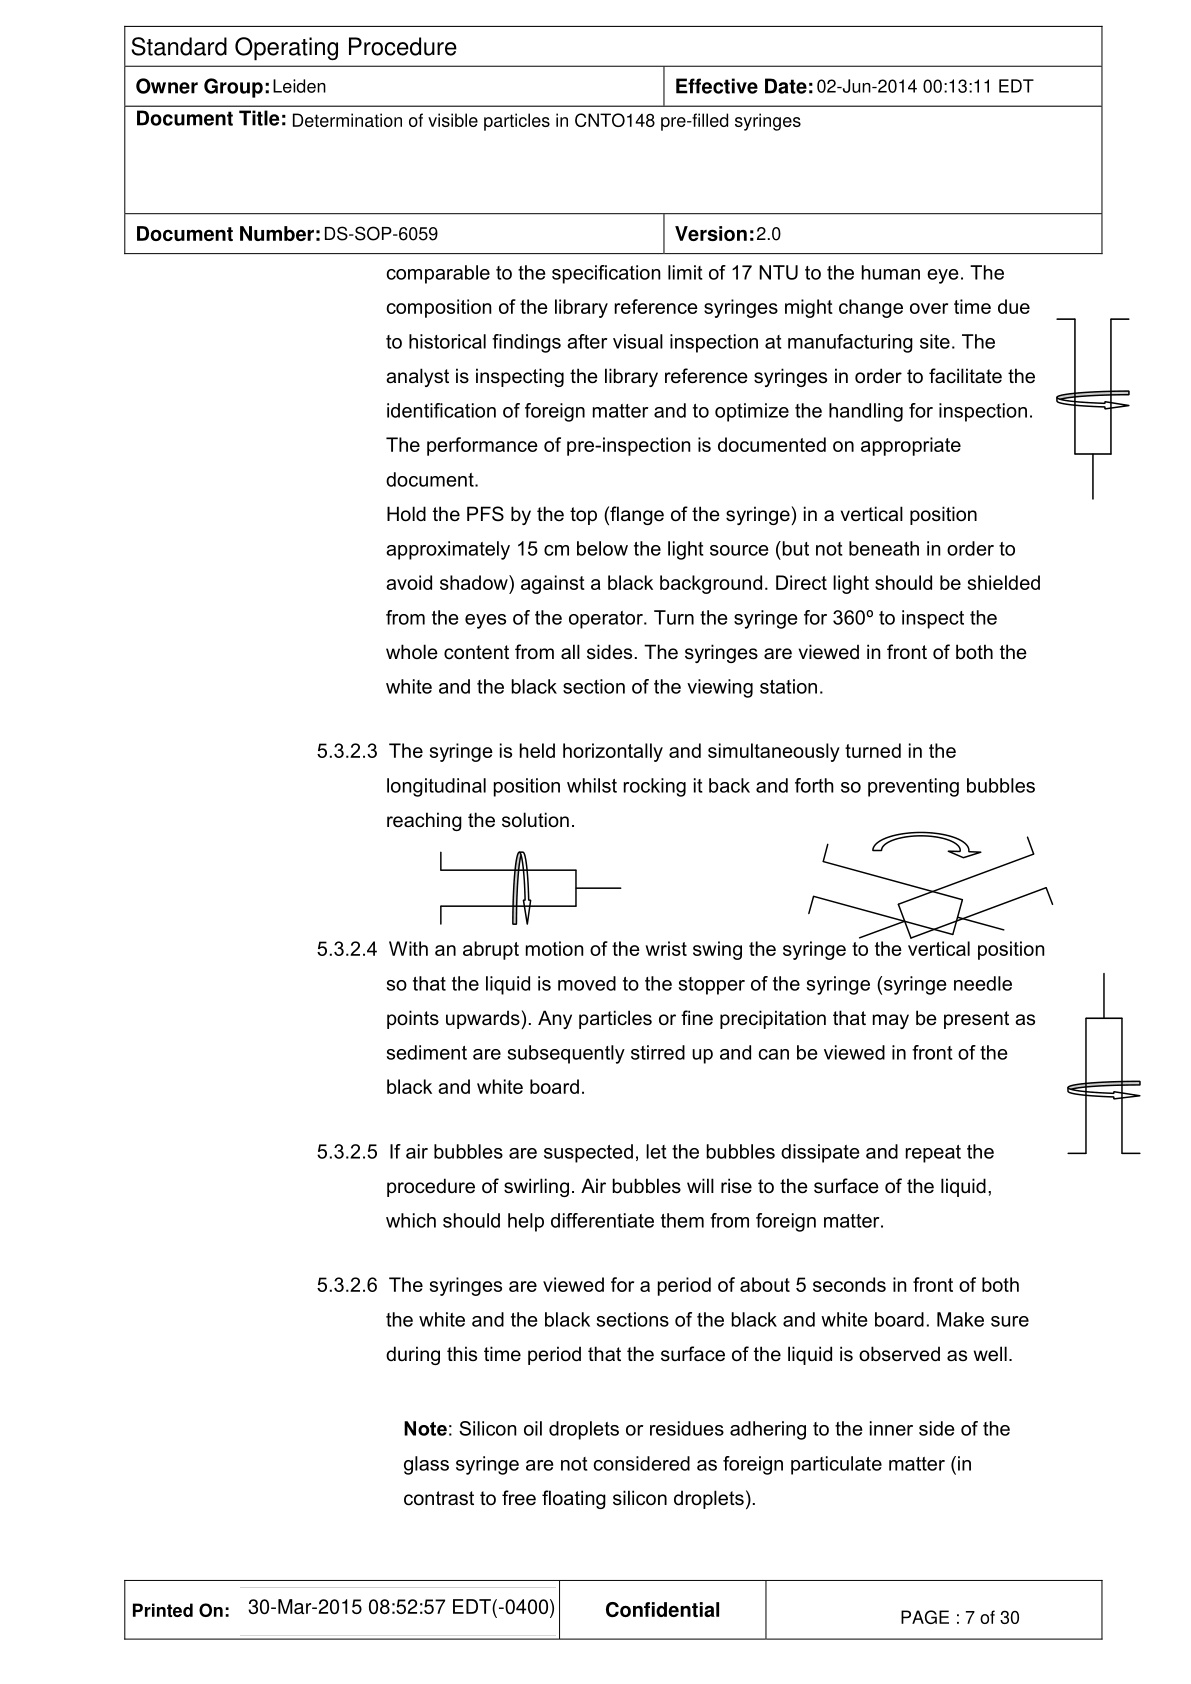full_lined: (122, 1580, 1105, 1641)
merged_cells: (122, 24, 1105, 255)
